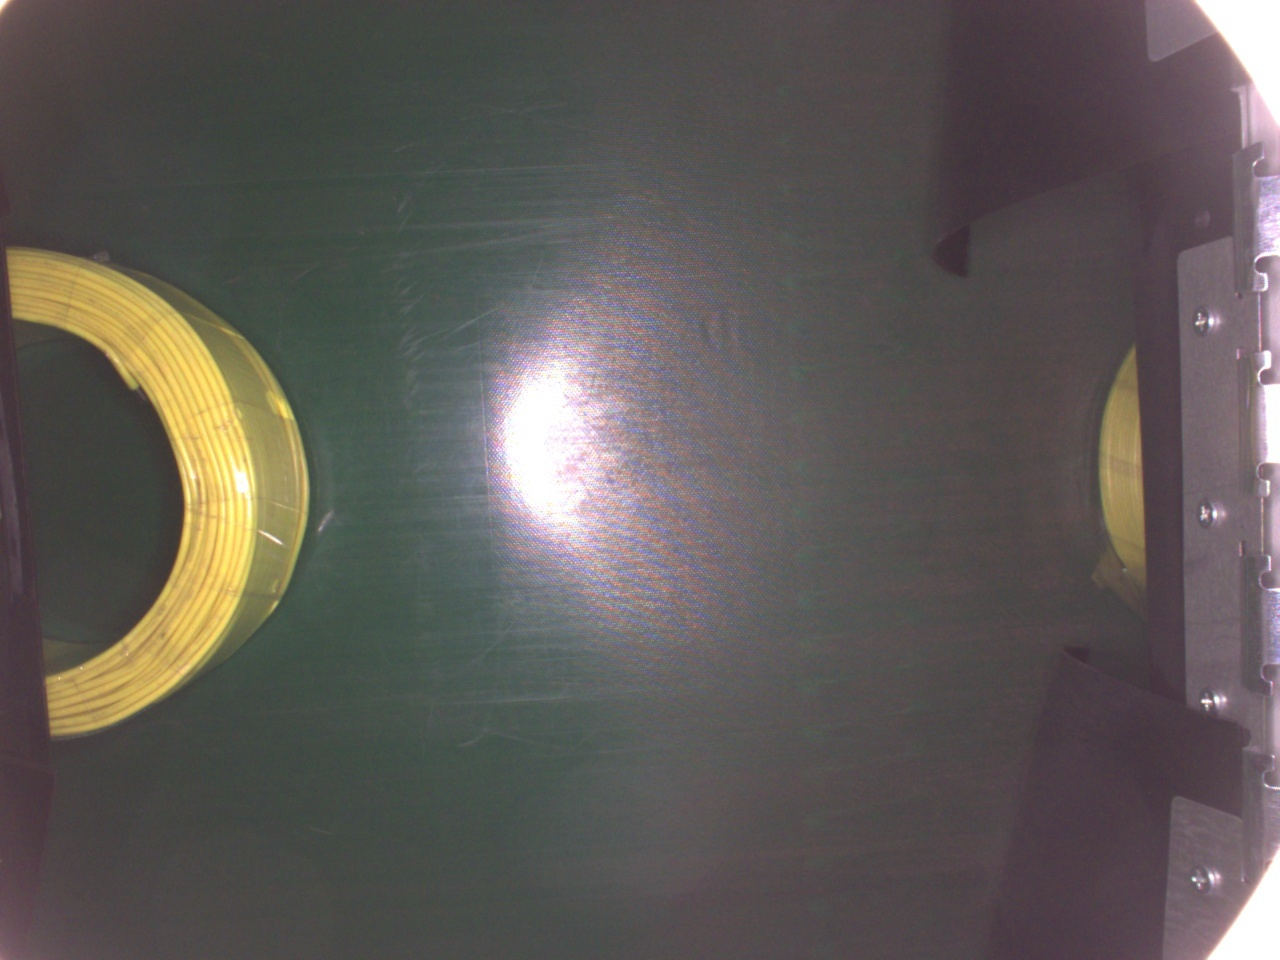yellow: (0, 245, 311, 738)
